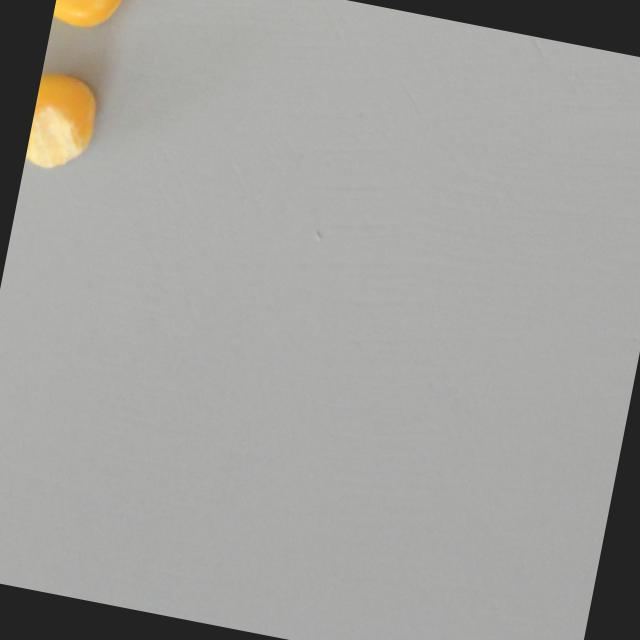pelicula: (25, 67, 104, 174), (52, 0, 137, 34)
